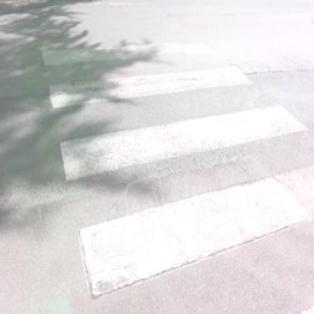Paso de Cebra: (32, 63, 313, 189)
